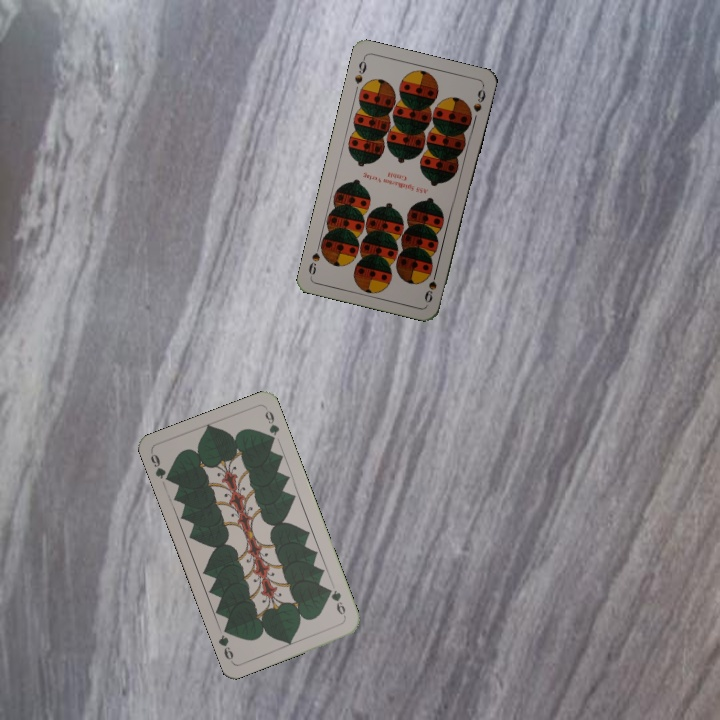G9: (146, 448, 174, 485), (324, 584, 349, 620)
S9: (420, 266, 440, 305), (351, 54, 369, 86)
